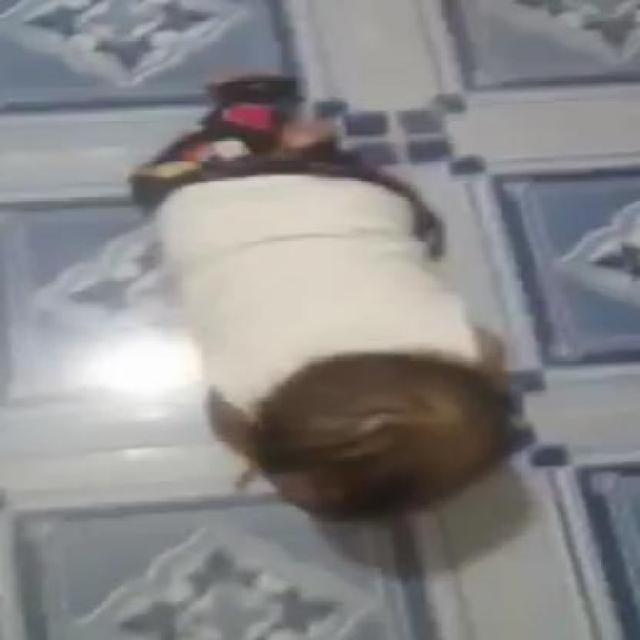baby: (128, 76, 516, 526)
